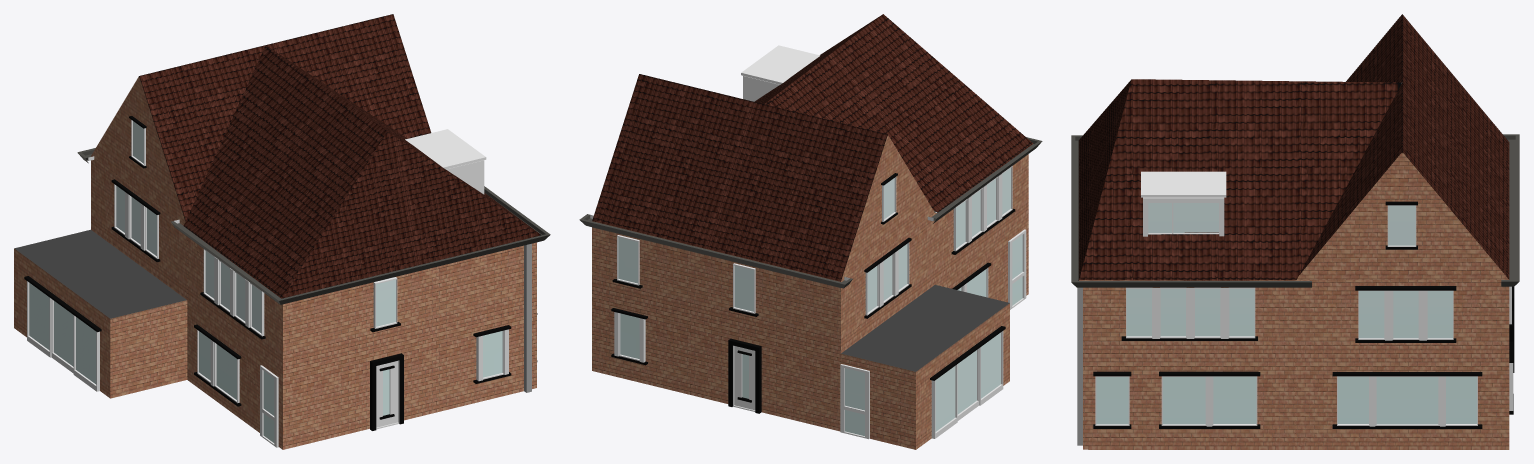
Rendered from Greide 2 en 4.fbx.
3 views of the same model, side by side, from view 1: azimuth 30°, elevation 25°; view 2: azimuth 150°, elevation 25°; view 3: azimuth 270°, elevation 25° (orthographic). The views are drawn at different scales.
Visible parts, largest first — view 1: Greide_2_en_4; view 2: Greide_2_en_4; view 3: Greide_2_en_4.
Boxes of the visible parts, left/top/right/bottom form: Greide_2_en_4: left=14, top=14, right=550, bottom=449; Greide_2_en_4: left=579, top=14, right=1042, bottom=449; Greide_2_en_4: left=1071, top=14, right=1519, bottom=449.
Bounding box in the file's own units: 13.53 × 10.24 × 13.75.
1 material, 1 textured.
